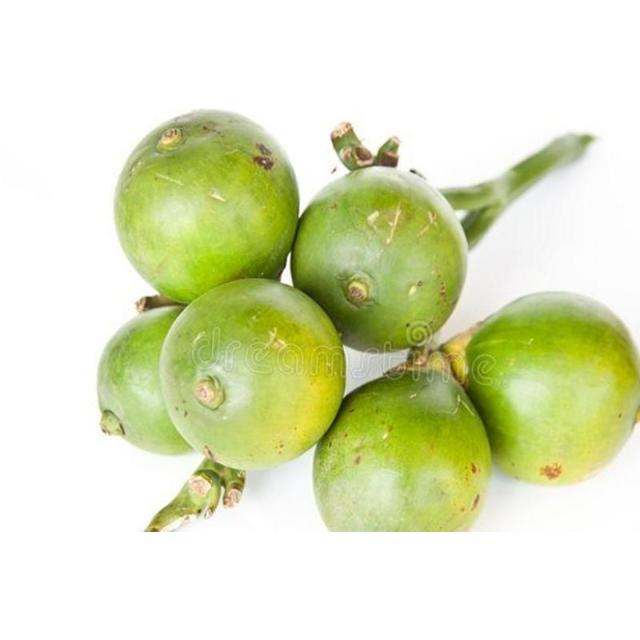good: (160, 280, 346, 480), (115, 109, 298, 303), (458, 291, 640, 485), (292, 153, 466, 353), (315, 362, 493, 532), (98, 303, 200, 457)
